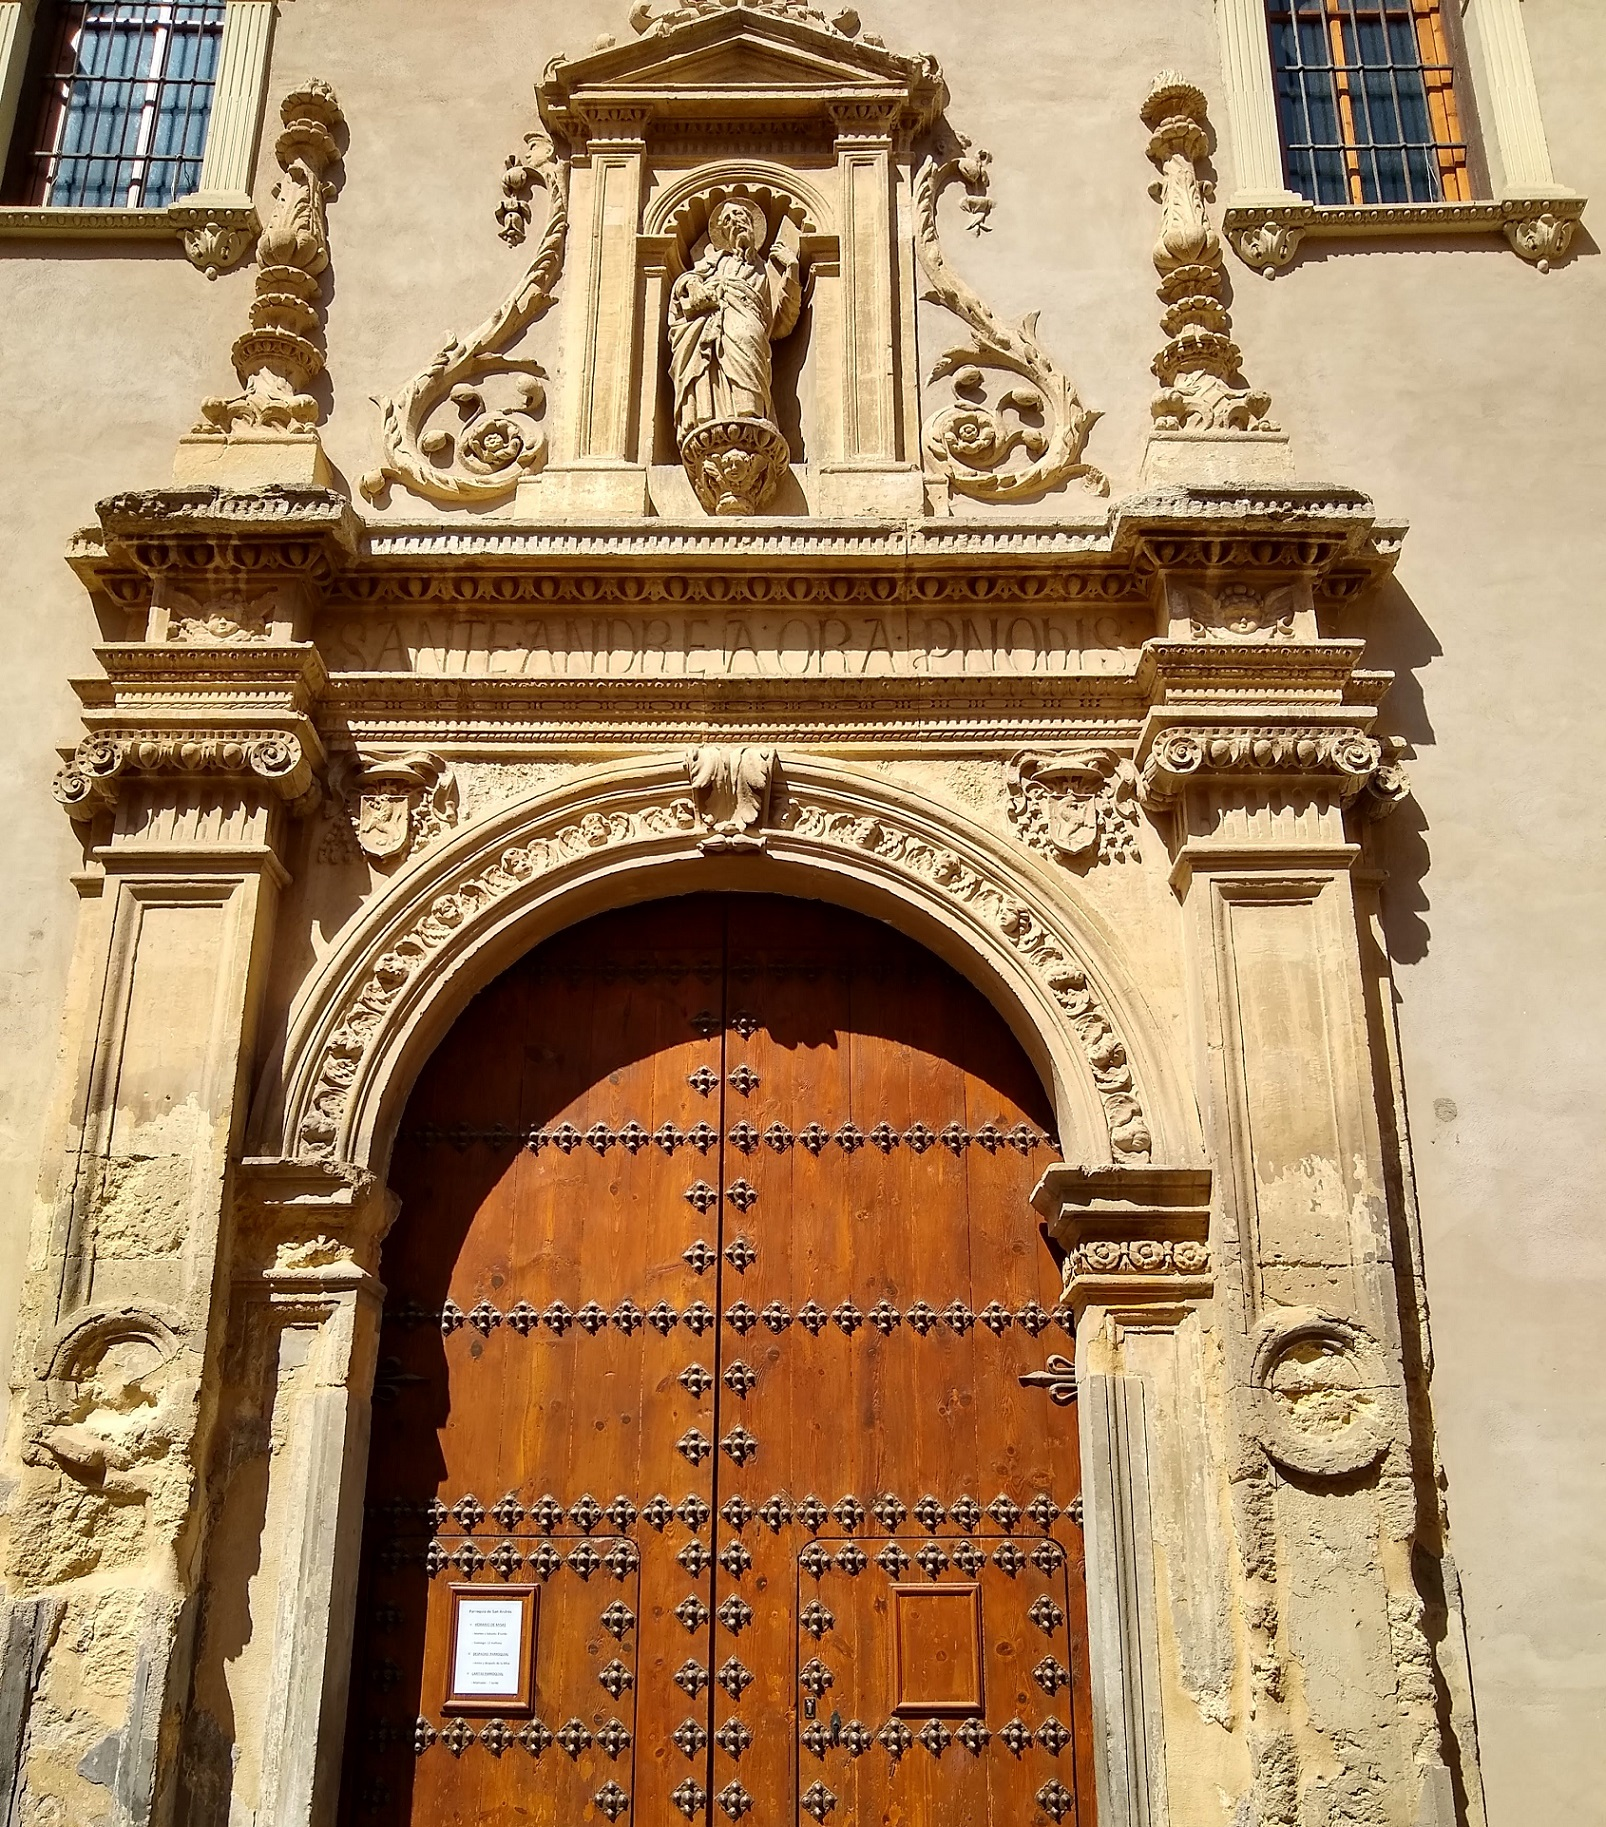arco-medio-punto: (322, 816, 1138, 1345)
fronton: (528, 2, 949, 120)
